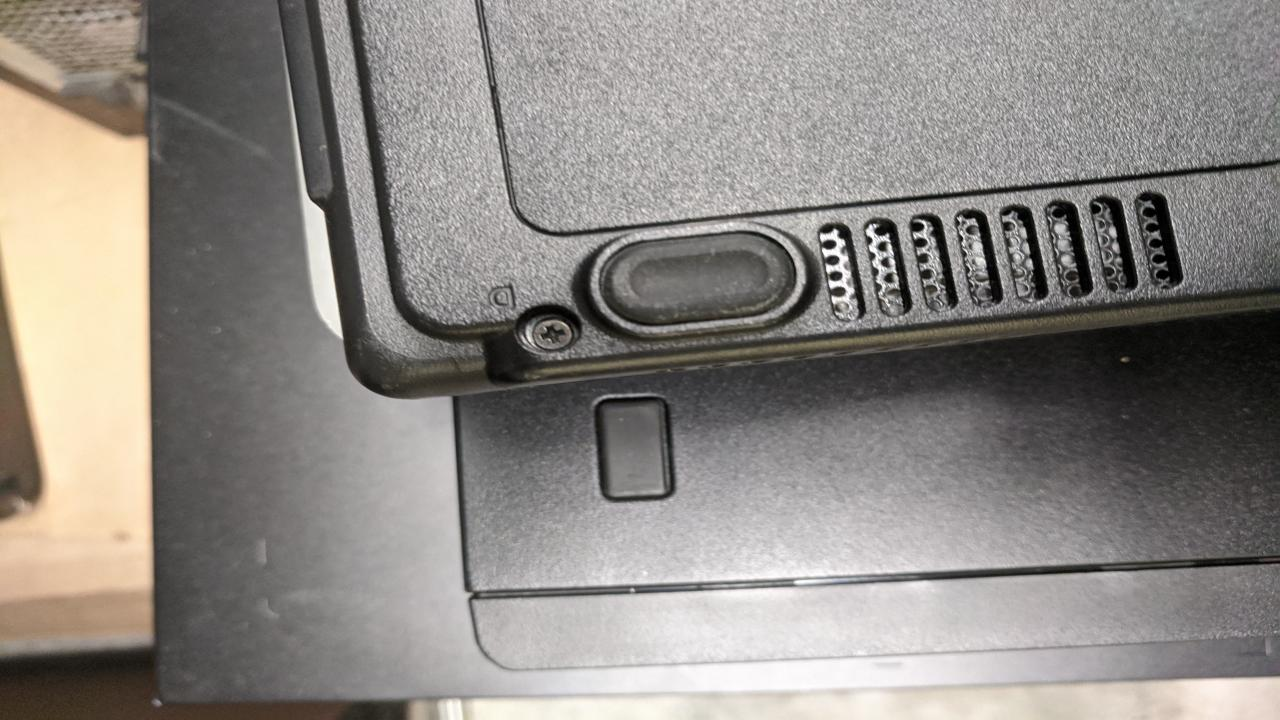CRS: (528, 313, 580, 353)
